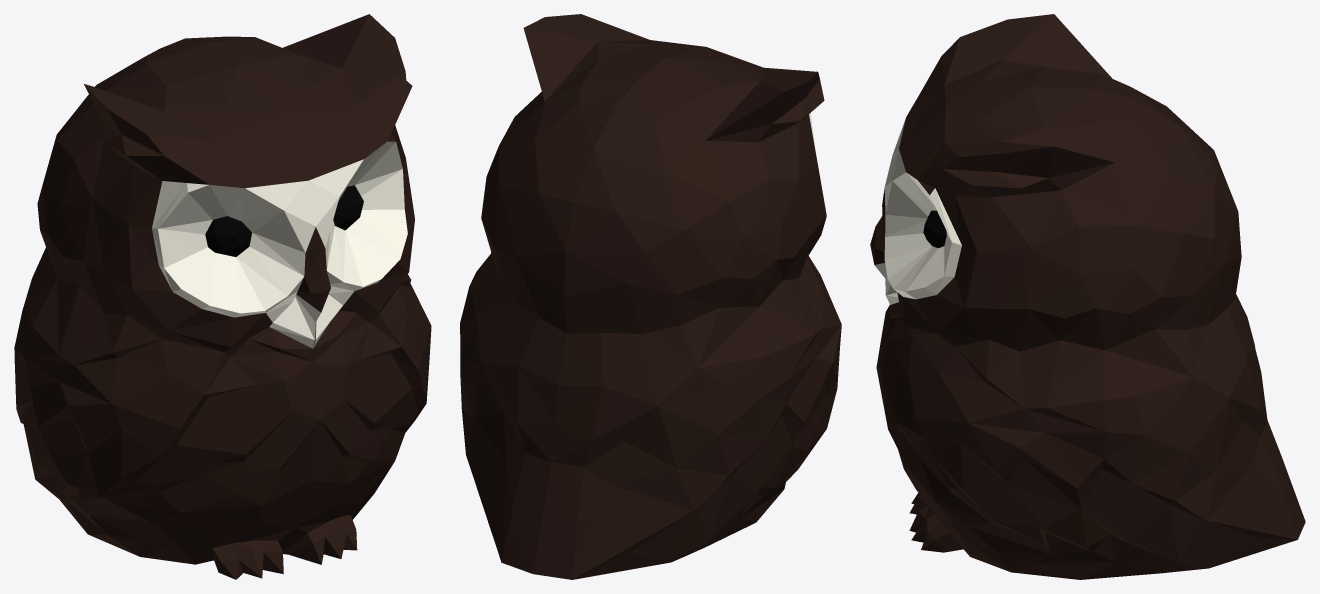
Rendered from OwlArray.obj.
3 renders of one model, left to right at view 1: azimuth 30°, elevation 25°; view 2: azimuth 150°, elevation 25°; view 3: azimuth 270°, elevation 25°, orthographic. The views are drawn at different scales.
Parts seen in each view (by area): view 1: LowPolyOwlHead, LowPolyOwlBody; view 2: LowPolyOwlBody, LowPolyOwlHead; view 3: LowPolyOwlHead, LowPolyOwlBody.
Boxes of the visible parts, x1,y1,x2,y2 form: LowPolyOwlHead: (37, 14, 414, 361); LowPolyOwlBody: (14, 247, 431, 579); LowPolyOwlBody: (460, 252, 841, 579); LowPolyOwlHead: (481, 14, 826, 333); LowPolyOwlHead: (870, 14, 1241, 351); LowPolyOwlBody: (876, 294, 1305, 579).
Size of the model in its own units: 40.55 by 50.9 by 45.49.
